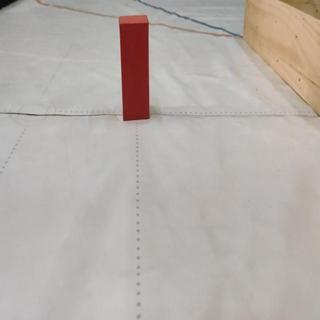redbox: (119, 14, 153, 122)
